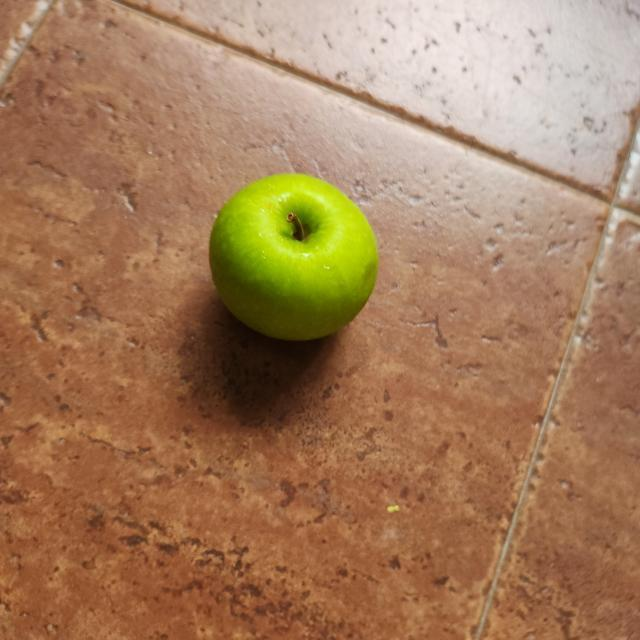apple: (204, 169, 382, 353)
